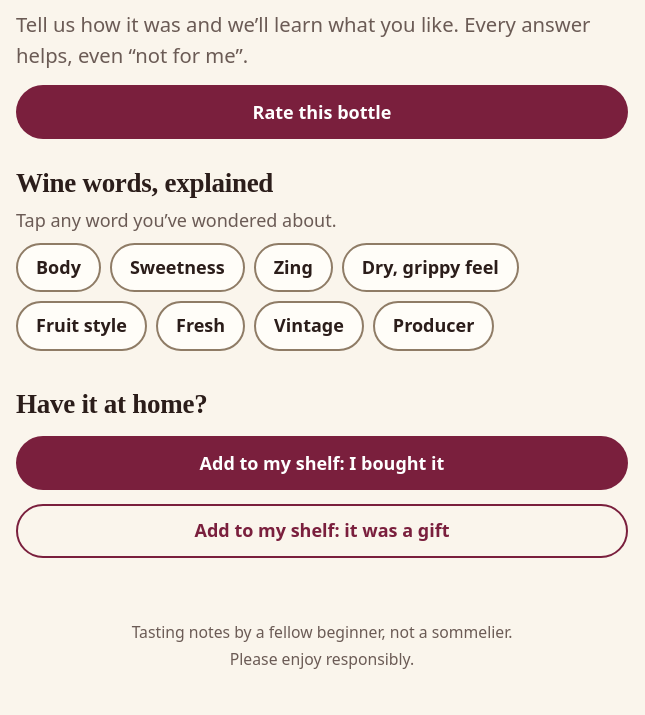
it: Wine card › adds to the shelf as bought or gift, and removes again
(page scrolled)
Step 1. Click the button "Add to my shelf: it was a gift" → [322, 530], box x1=16 y1=504 x2=628 y2=558
(page scrolled)
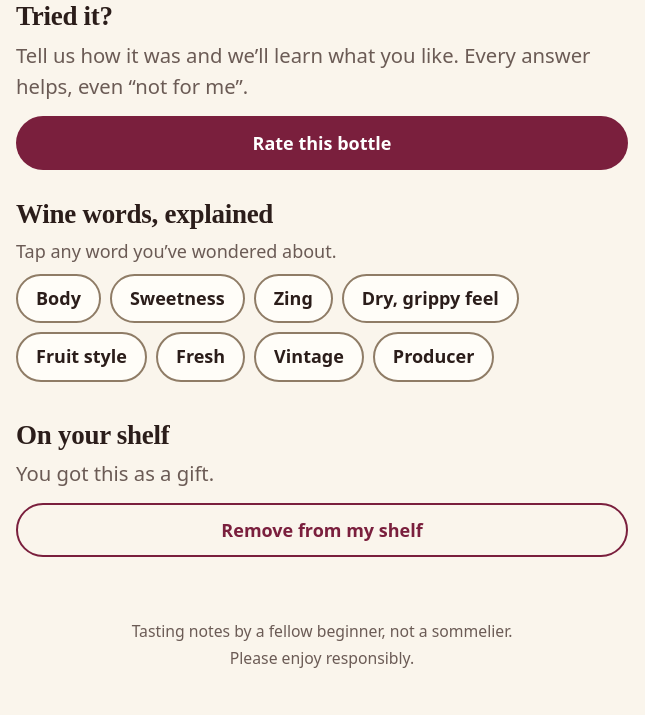
Now the heading "On your shelf" is shown, box x1=16 y1=420 x2=170 y2=450
Now the text "You got this as a gift." is shown, box x1=16 y1=459 x2=214 y2=487
Step 2. Click the button "Remove from my shelf" → [322, 530], box x1=16 y1=503 x2=628 y2=557
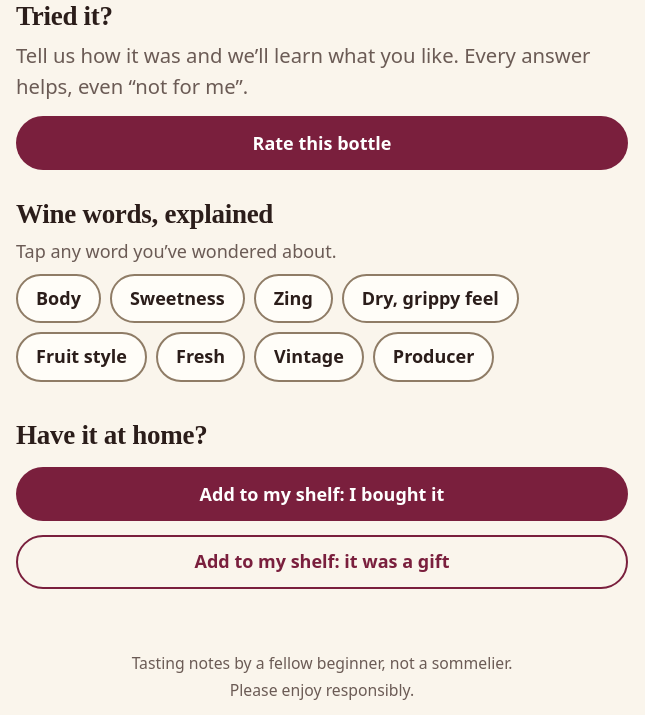
Now the heading "Have it at home?" is shown, box x1=16 y1=420 x2=207 y2=450
